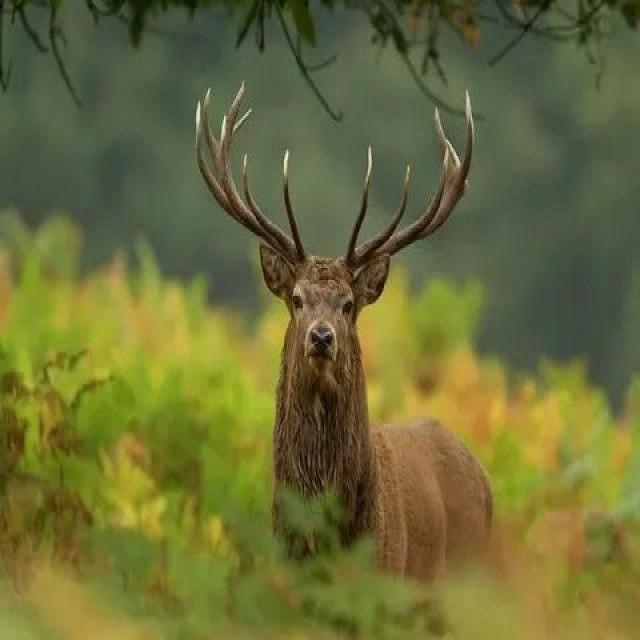deer: (204, 65, 486, 558)
